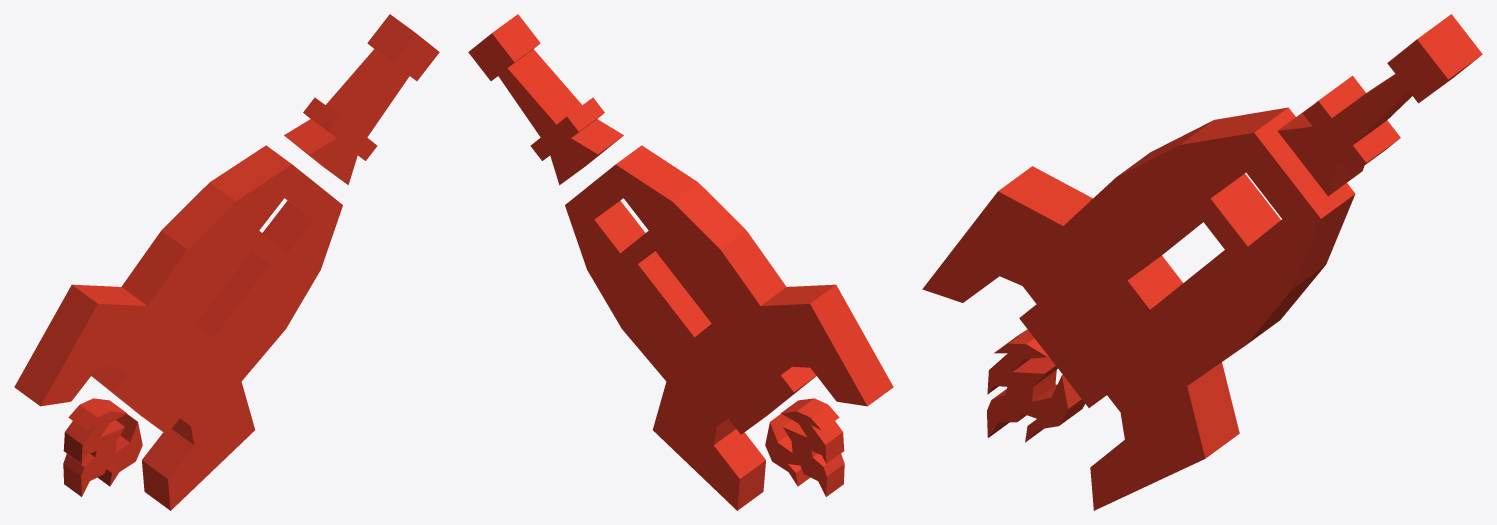
The model's file is Icon_Rocket.fbx.
3 renders of one model, left to right at view 1: azimuth 30°, elevation 25°; view 2: azimuth 150°, elevation 25°; view 3: azimuth 330°, elevation 25°, orthographic. The views are drawn at different scales.
Parts seen in each view (by area): view 1: Icon_Rocket; view 2: Icon_Rocket; view 3: Icon_Rocket.
Boxes of the visible parts, box(x1,y1,x2,y2) form: Icon_Rocket: box(14, 14, 439, 510); Icon_Rocket: box(468, 14, 893, 510); Icon_Rocket: box(922, 14, 1482, 510).
Bounding box in the file's own units: 77.99 × 77.99 × 8.85.
